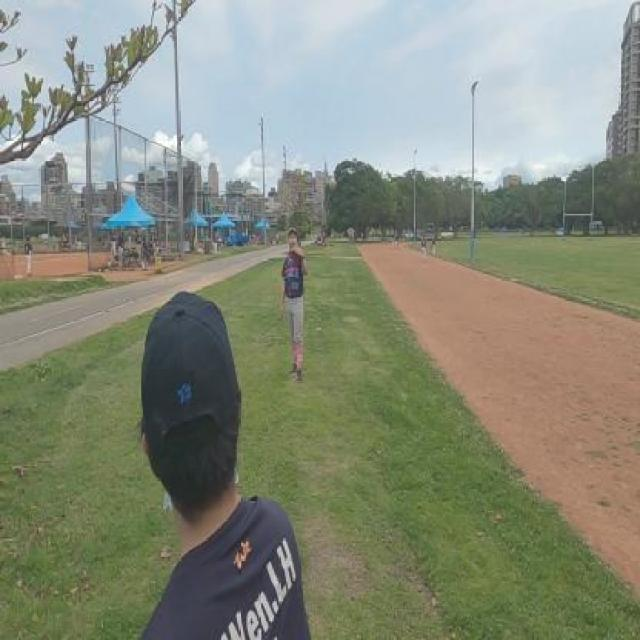sports ball: (328, 179, 338, 191)
